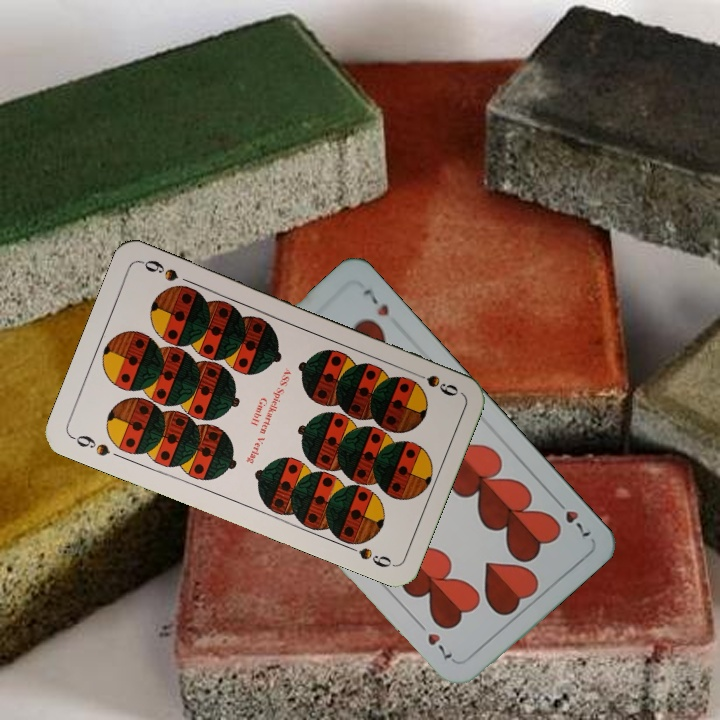H7: (549, 493, 594, 540)
S9: (406, 366, 461, 399), (67, 430, 113, 459)
